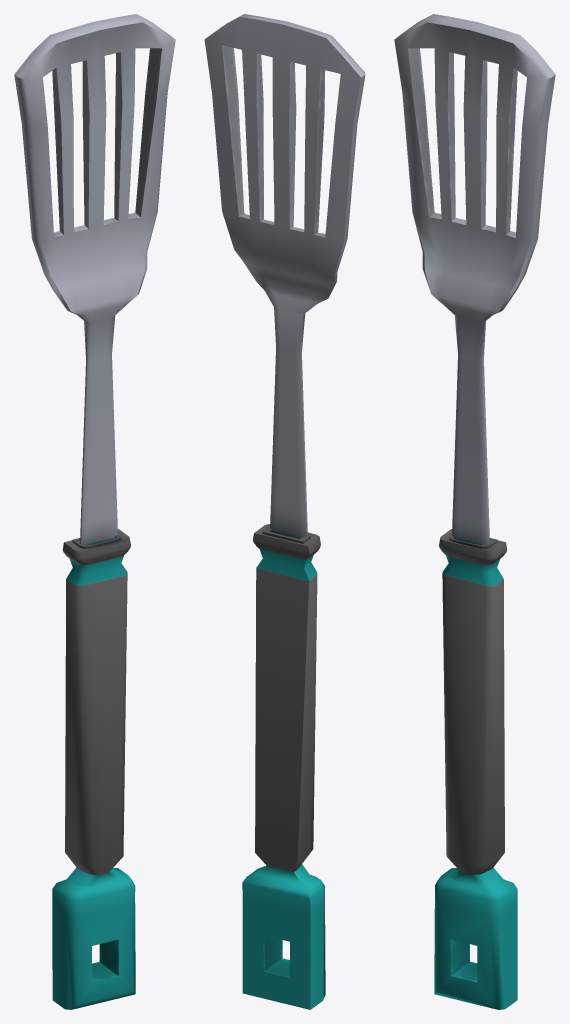
The model's file is spatula.fbx.
The picture shows the model from 3 angles, left to right: view 1: azimuth 30°, elevation 25°; view 2: azimuth 150°, elevation 25°; view 3: azimuth 330°, elevation 25°; orthographic projection.
Visible parts, largest first — view 1: Spatula; view 2: Spatula; view 3: Spatula.
Boxes of the visible parts, x1,y1,x2,y2 form: Spatula: (14,14,175,1009); Spatula: (204,14,365,1009); Spatula: (394,14,555,1009).
Bounding box in the file's own units: 20.14 × 120 × 4.73.
